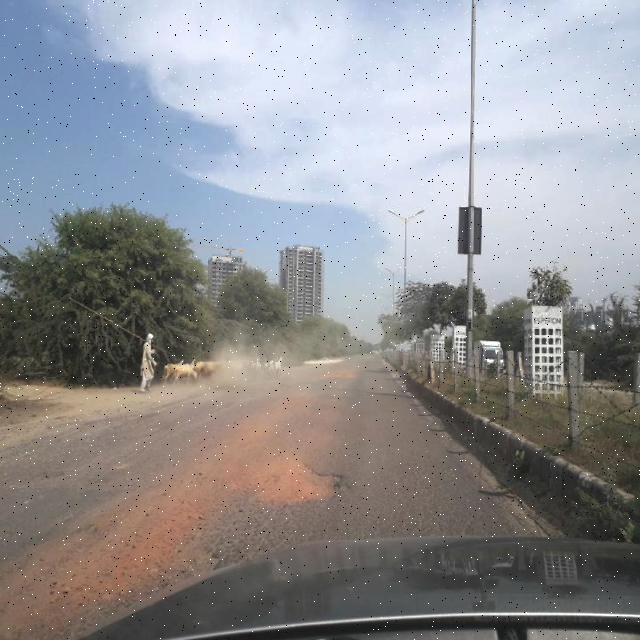D20: (215, 436, 502, 554)
D40: (0, 479, 211, 638), (219, 438, 353, 502), (310, 361, 356, 396)
